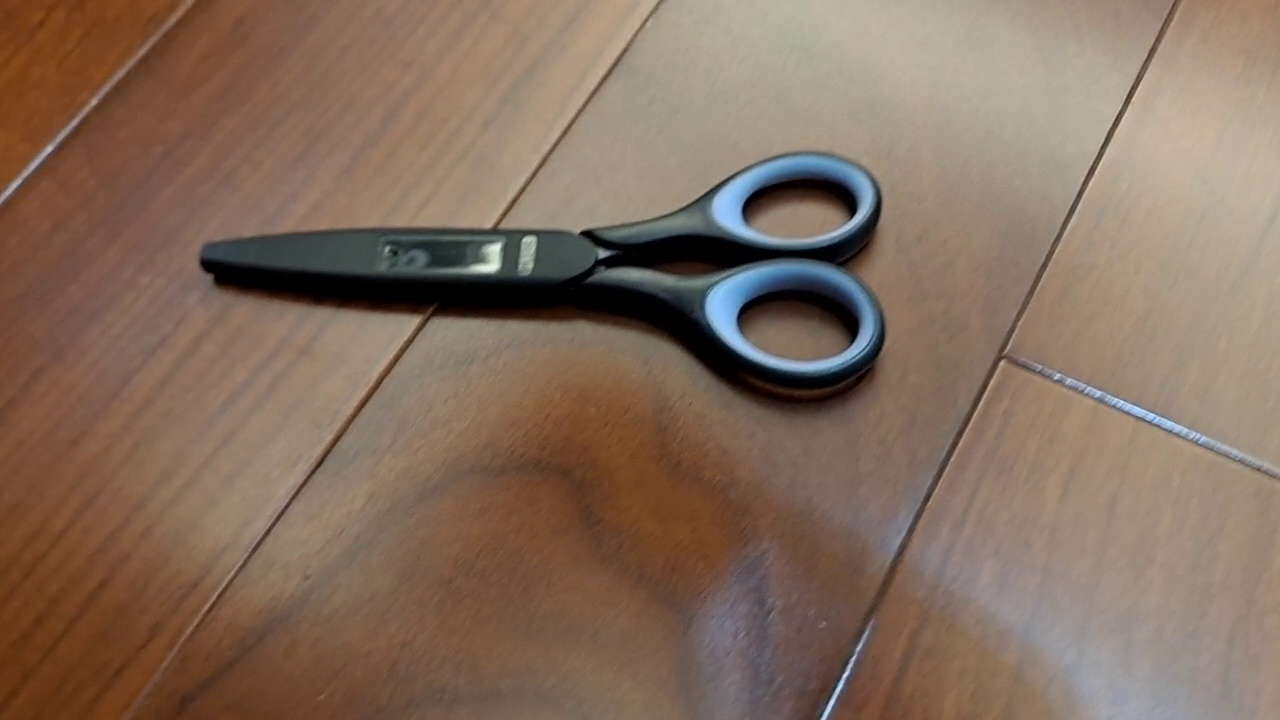scissors: (196, 148, 887, 393)
